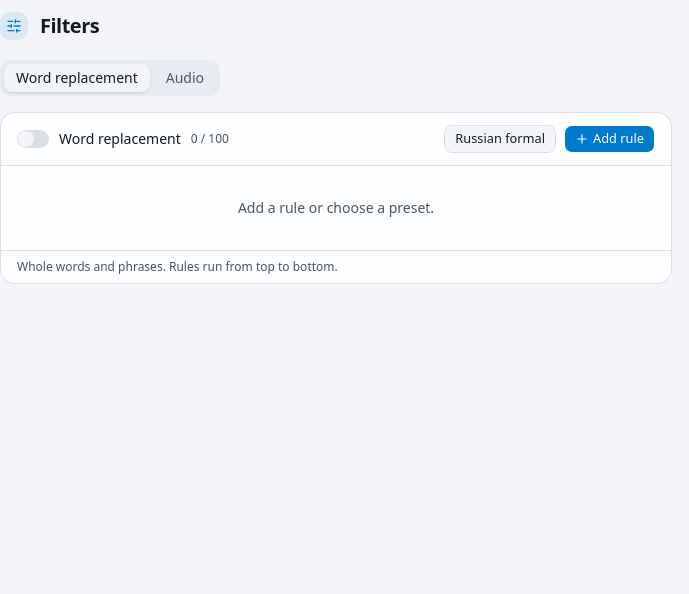
it: FilterSettings › keeps sample controls usable after start failure
Press the mouse on the tab "Audio": (185, 78) [154, 64, 216, 92]
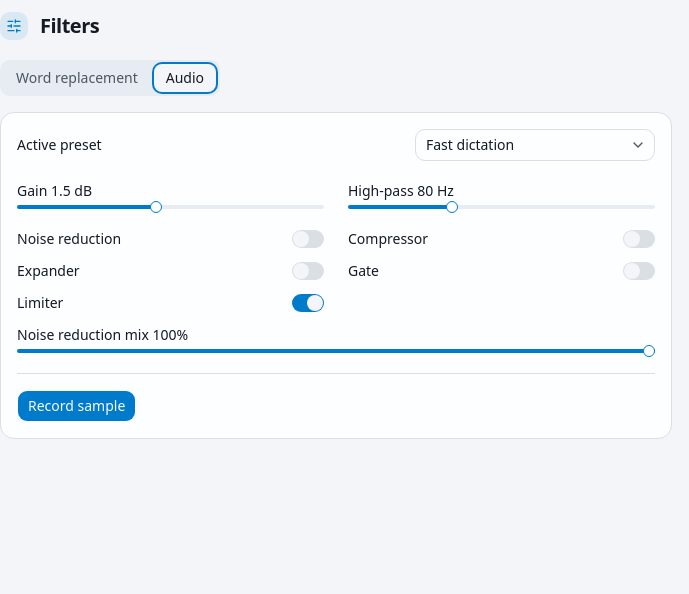
Click the button "Record sample": (77, 406) [17, 390, 136, 422]
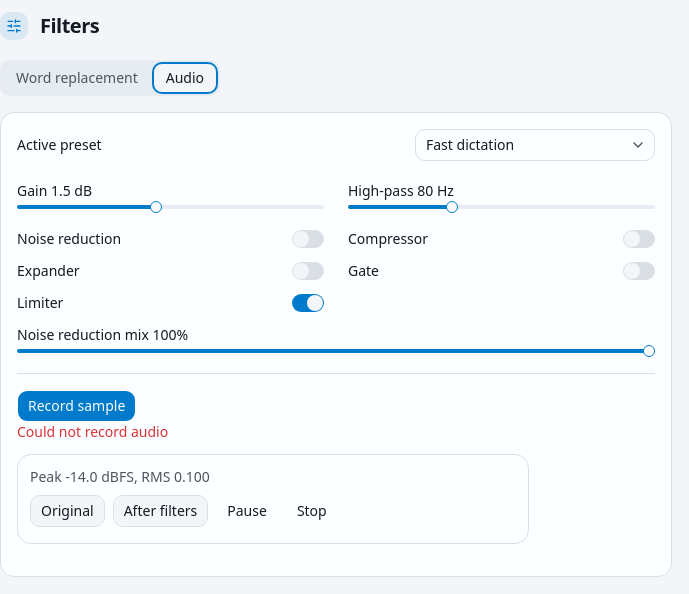
Expected: the button "Record sample" is enabled, [17, 390, 136, 422]
Expected: the button "Original" is shown, [30, 495, 105, 527]
Expected: the message reads "Could not record audio", [17, 422, 168, 441]
